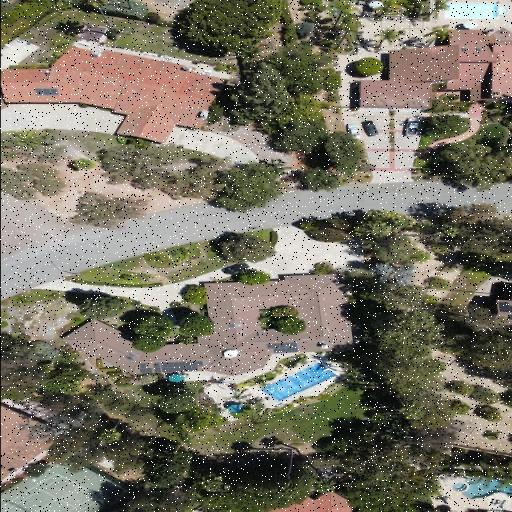solar-panel: (160, 361, 202, 372), (265, 342, 297, 353), (33, 88, 57, 96), (498, 302, 512, 313), (123, 352, 138, 361), (138, 363, 151, 373), (153, 363, 160, 373), (227, 323, 241, 328), (505, 315, 512, 320)
